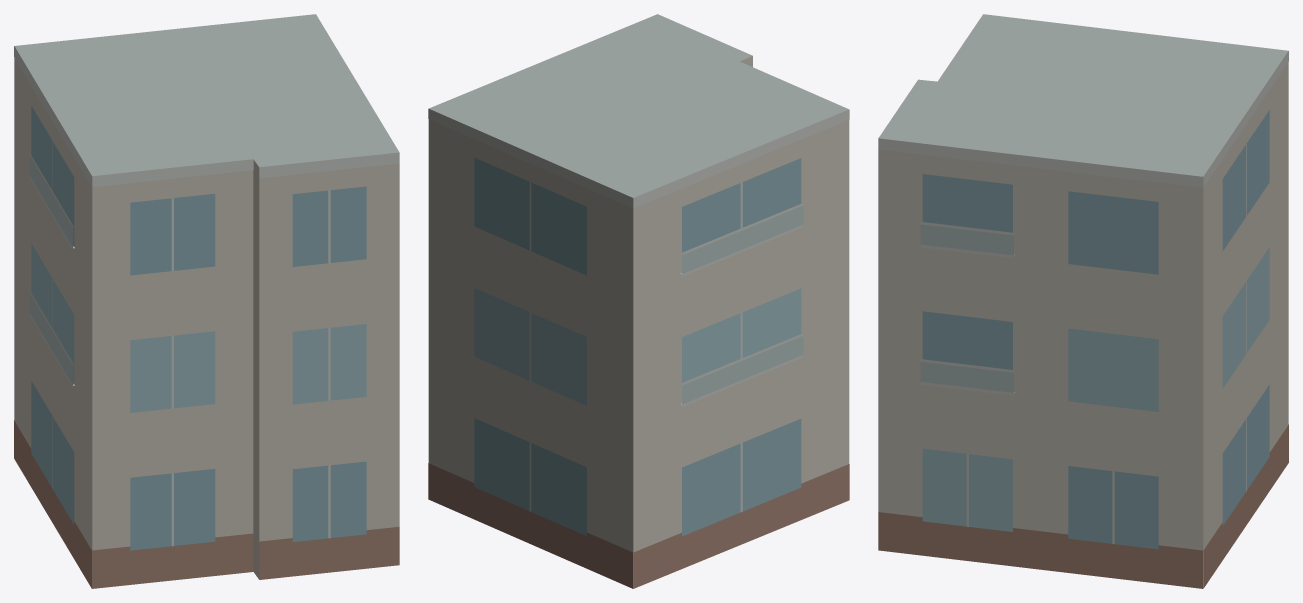
The model's file is survey-upis-32500801.glb.
The picture shows the model from 3 angles, left to right: view 1: azimuth 30°, elevation 25°; view 2: azimuth 150°, elevation 25°; view 3: azimuth 270°, elevation 25°; orthographic projection. The views are drawn at different scales.
Visible parts, largest first — view 1: survey-upis-32500801.tmp; view 2: survey-upis-32500801.tmp; view 3: survey-upis-32500801.tmp.
Part boxes in pixels (x1=…): survey-upis-32500801.tmp: x1=14, y1=14, x2=399, y2=588; survey-upis-32500801.tmp: x1=428, y1=14, x2=849, y2=588; survey-upis-32500801.tmp: x1=878, y1=14, x2=1288, y2=588.
Bounding box in the file's own units: 7.76 × 9.15 × 8.27.
